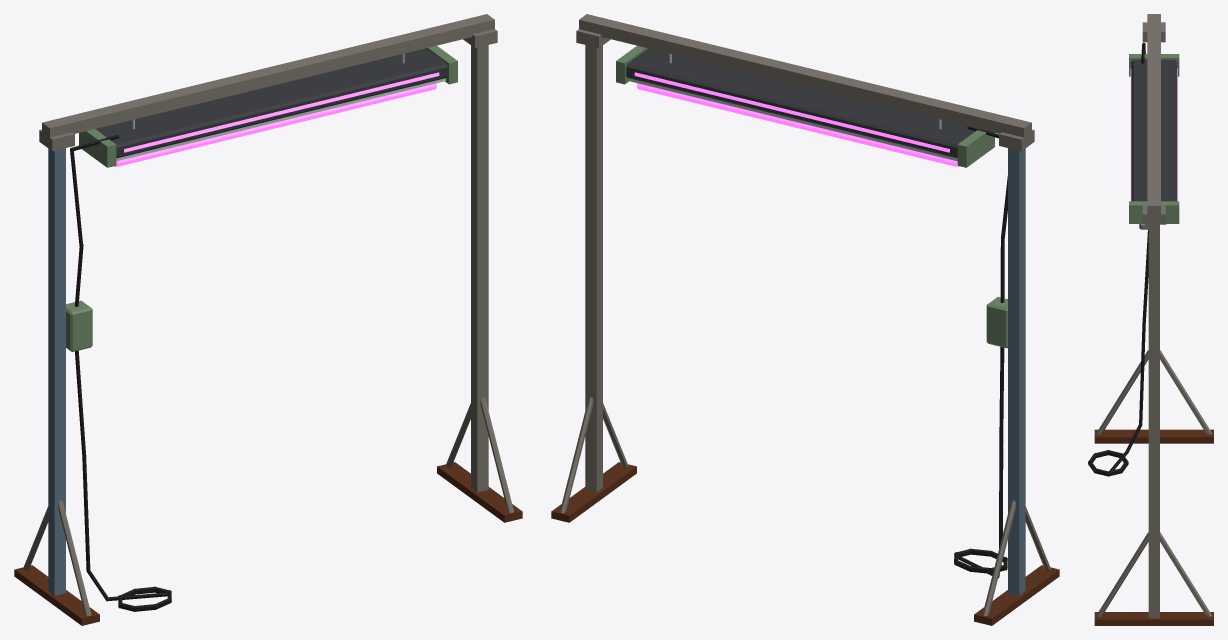
File: uv_lamp.glb
3 renders of one model, left to right at view 1: azimuth 30°, elevation 25°; view 2: azimuth 150°, elevation 25°; view 3: azimuth 270°, elevation 25°, orthographic. The views are drawn at different scales.
Parts seen in each view (by area): view 1: uv_lamp; view 2: uv_lamp; view 3: uv_lamp.
Boxes of the visible parts, <box> form: uv_lamp: <box>14,14,522,625</box>; uv_lamp: <box>551,14,1059,625</box>; uv_lamp: <box>1088,14,1213,625</box>.
Size of the model in its own units: 1.98 by 2.03 by 0.5484.
